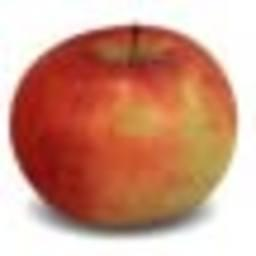apple: (9, 24, 237, 230)
